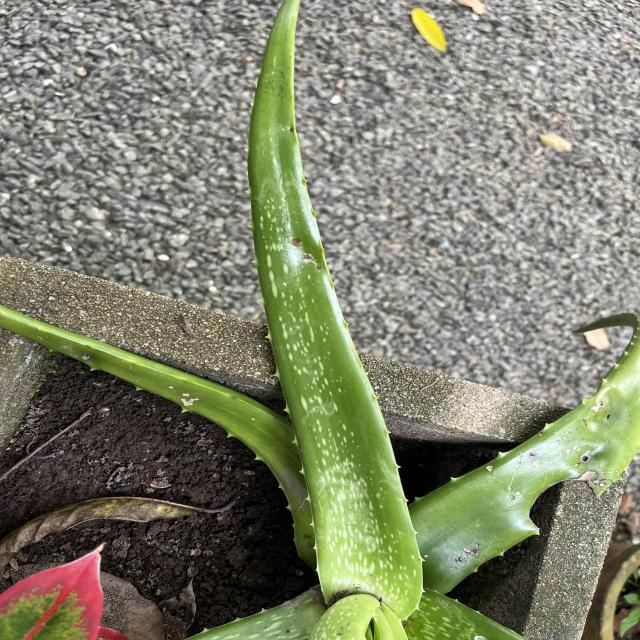Aloe vera: (242, 0, 430, 616)
